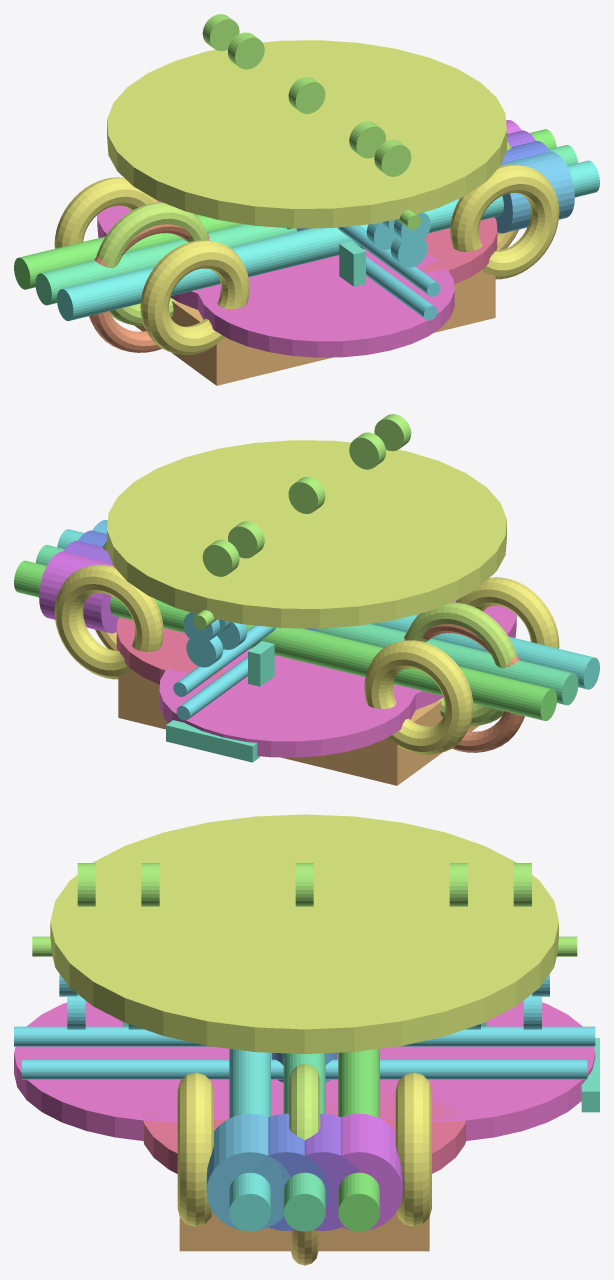
Rendered from gearbox_cad.glb.
3 renders of one model, top to bottom at view 1: azimuth 30°, elevation 25°; view 2: azimuth 150°, elevation 25°; view 3: azimuth 270°, elevation 25°, orthographic. The views are drawn at different scales.
Visible parts, largest first — view 1: 15_00_Cover, 11_00_Flange4, 06_00_Shaft3, 02_00_Bear12, 02_02_Bear12, 01_00_Base, 05_00_Shaft4, 03_00_Bear14, 04_00_Shaft5, 02_01_Bear12, 07_00_Sprocket3, 12_00_Flange5 (+15 smaller); view 2: 15_00_Cover, 11_02_Flange4, 04_00_Shaft5, 02_01_Bear12, 02_03_Bear12, 01_00_Base, 05_00_Shaft4, 11_01_Flange4, 03_00_Bear14, 06_00_Shaft3, 02_00_Bear12, 18_Hook_00 (+15 smaller); view 3: 15_00_Cover, 11_00_Flange4, 11_02_Flange4, 01_00_Base, 07_00_Sprocket3, 02_02_Bear12, 02_03_Bear12, 06_00_Shaft3, 04_00_Shaft5, 10_00_Sprocket5, 12_00_Flange5, 11_01_Flange4 (+22 smaller).
Boxes of the visible parts, box(x1,y1,x2,y2) form: 15_00_Cover: box(107, 40, 506, 228); 11_00_Flange4: box(198, 249, 454, 357); 06_00_Shaft3: box(57, 160, 599, 320); 02_00_Bear12: box(140, 240, 249, 354); 02_02_Bear12: box(450, 164, 559, 279); 01_00_Base: box(134, 270, 495, 385); 05_00_Shaft4: box(35, 145, 578, 305); 03_00_Bear14: box(97, 202, 207, 325); 04_00_Shaft5: box(14, 129, 556, 289); 02_01_Bear12: box(54, 177, 157, 248); 07_00_Sprocket3: box(494, 151, 574, 233); 12_00_Flange5: box(315, 217, 497, 284); 15_00_Cover: box(107, 440, 506, 628); 11_02_Flange4: box(159, 669, 415, 757); 04_00_Shaft5: box(14, 560, 556, 720); 02_01_Bear12: box(364, 640, 473, 754); 02_03_Bear12: box(54, 564, 163, 679); 01_00_Base: box(118, 670, 479, 785); 05_00_Shaft4: box(35, 545, 578, 705); 11_01_Flange4: box(222, 649, 443, 709); 03_00_Bear14: box(406, 602, 516, 725); 06_00_Shaft3: box(57, 529, 599, 689); 02_00_Bear12: box(456, 577, 559, 648); 18_Hook_00: box(166, 641, 274, 762); 15_00_Cover: box(50, 814, 558, 1053); 11_00_Flange4: box(14, 1001, 338, 1140); 11_02_Flange4: box(271, 1001, 595, 1140); 01_00_Base: box(179, 1212, 429, 1251); 07_00_Sprocket3: box(206, 1113, 290, 1230); 02_02_Bear12: box(177, 1072, 213, 1226); 02_03_Bear12: box(395, 1072, 431, 1226); 06_00_Shaft3: box(229, 1049, 270, 1231); 04_00_Shaft5: box(338, 1049, 379, 1231); 10_00_Sprocket5: box(322, 1113, 402, 1230); 12_00_Flange5: box(142, 1053, 465, 1173); 11_01_Flange4: box(141, 1046, 467, 1116).
Size of the model in its own units: 85 by 36.4 by 64.5.
